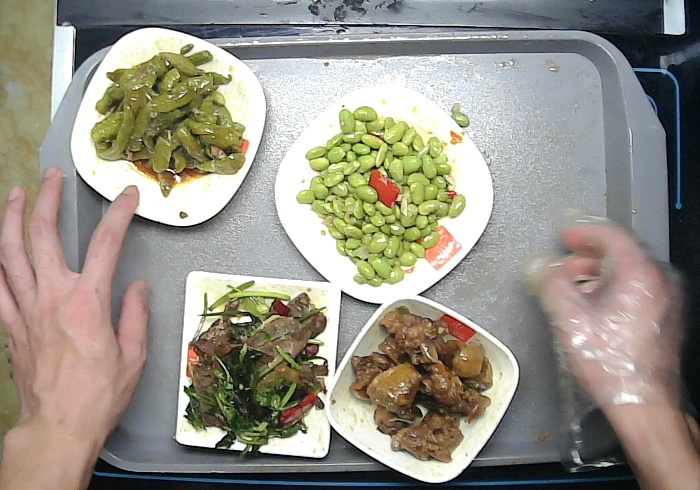SHKJ-Bai_Se_Cai_Die: (70, 27, 268, 225)
SHKJ-Bai_Se_Si_Fang_Cai_Die: (272, 83, 495, 303)
SHKJ-Bai_Se_Xiao_Fang_Die: (326, 294, 521, 485)
SHKJ-Si_Fang_Min: (172, 268, 342, 462)
